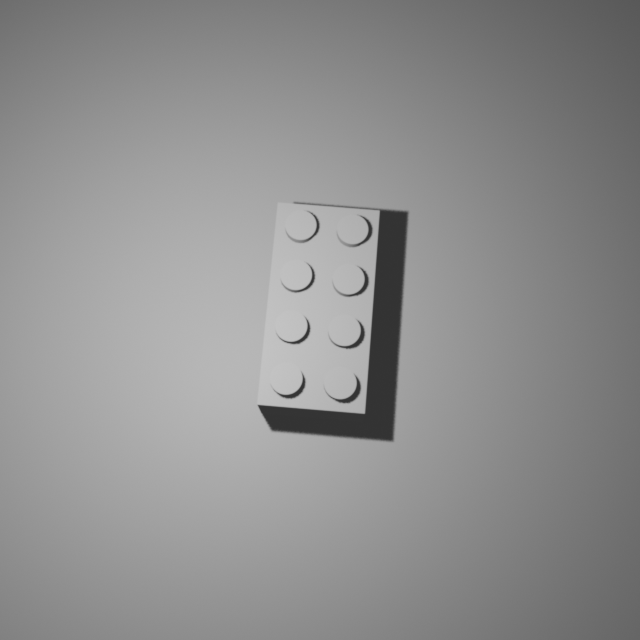lego_2x4: (256, 199, 380, 422)
